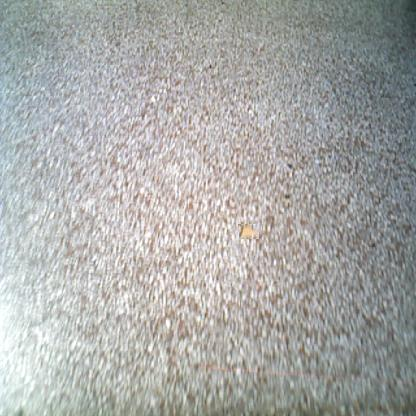dirty: (237, 223, 259, 239)
